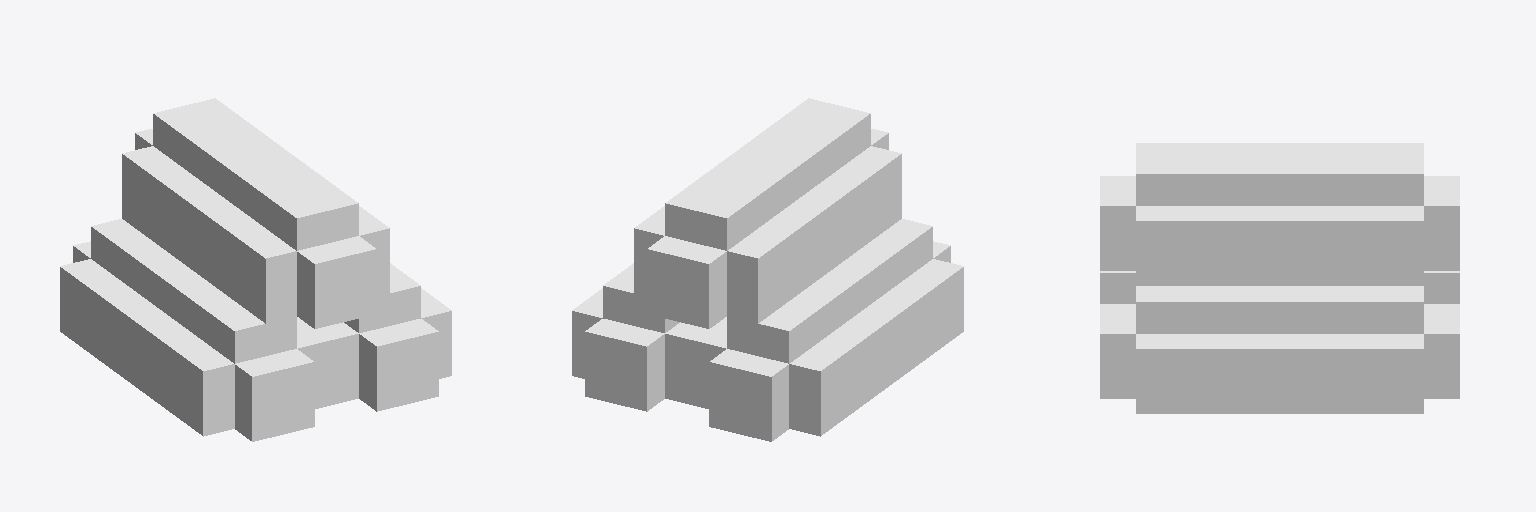
Rendered from IronIngotPile01.obj.
The picture shows the model from 3 angles: view 1: azimuth 30°, elevation 25°; view 2: azimuth 150°, elevation 25°; view 3: azimuth 270°, elevation 25°; orthographic projection.
Parts seen in each view (by area): view 1: object 1; view 2: object 1; view 3: object 1.
Boxes of the visible parts, x1=… form: object 1: x1=60, y1=98, x2=451, y2=441; object 1: x1=572, y1=98, x2=963, y2=441; object 1: x1=1100, y1=143, x2=1459, y2=413.
Bounding box in the file's own units: 0.8 × 0.6 × 1.